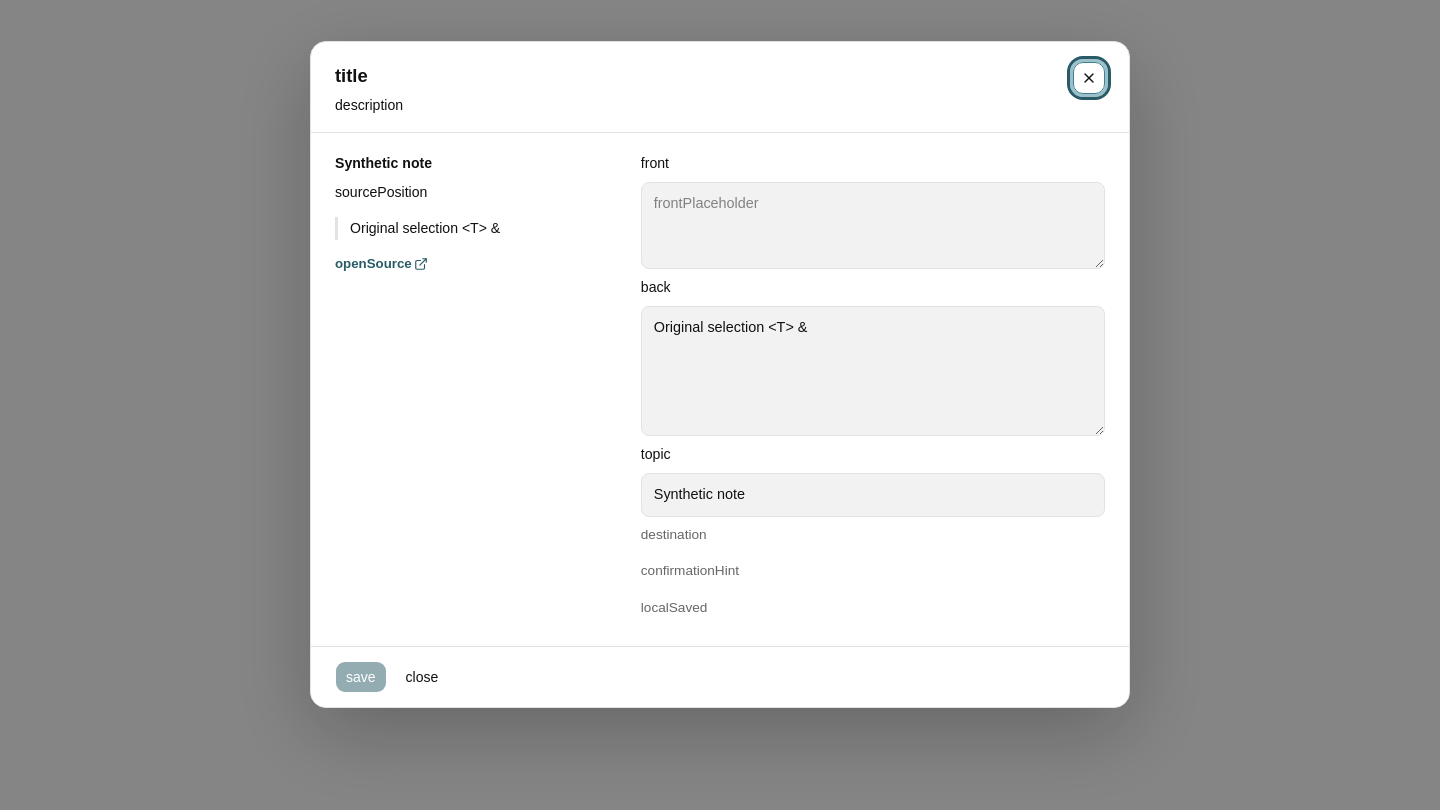
Test: does not silently retarget a changed note revision
Type "What is the selection?" into the text box labelled "front" at (873, 226), box [641,182,1105,269]
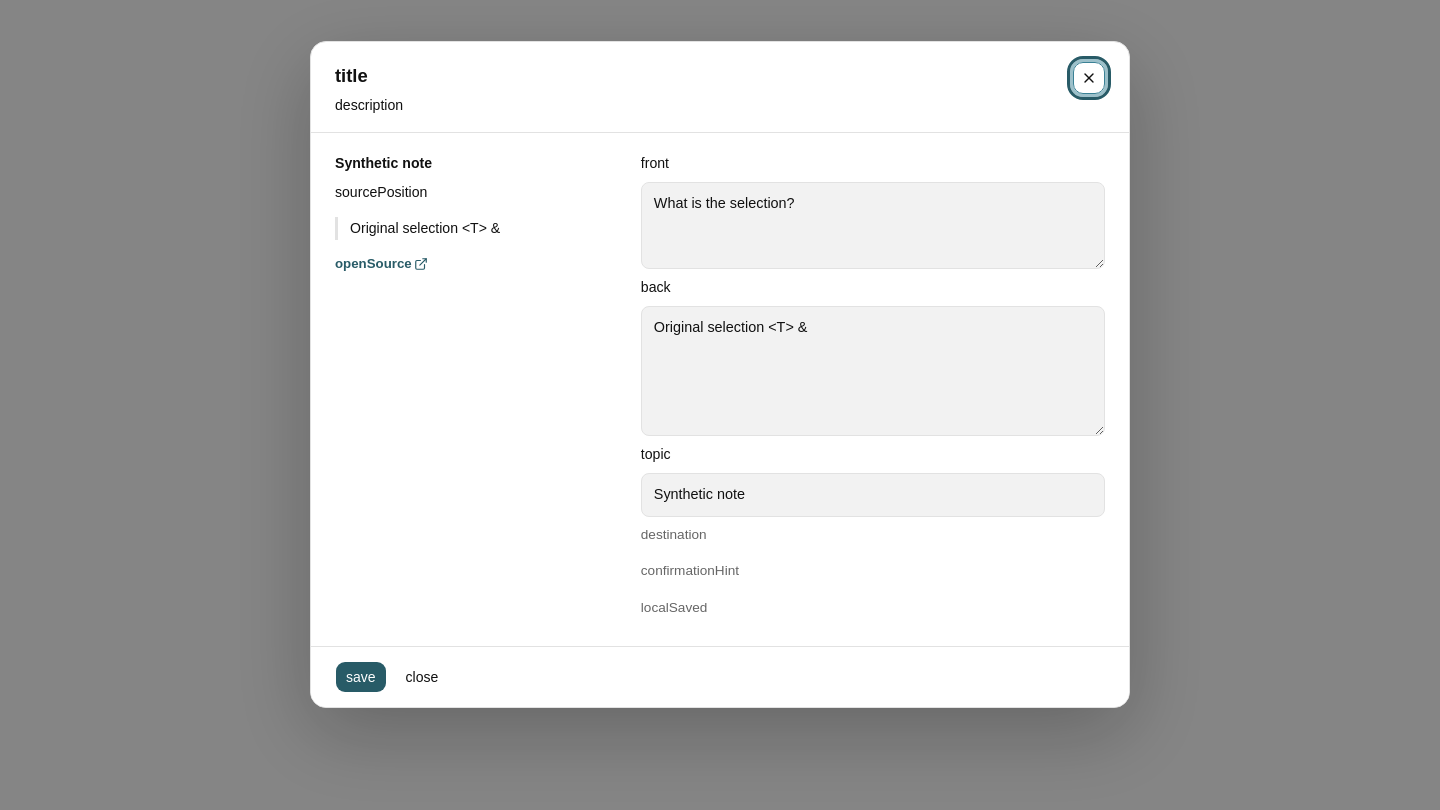
Now the button "save" is enabled
Click the button "save" at (361, 677), box [335,661,387,693]
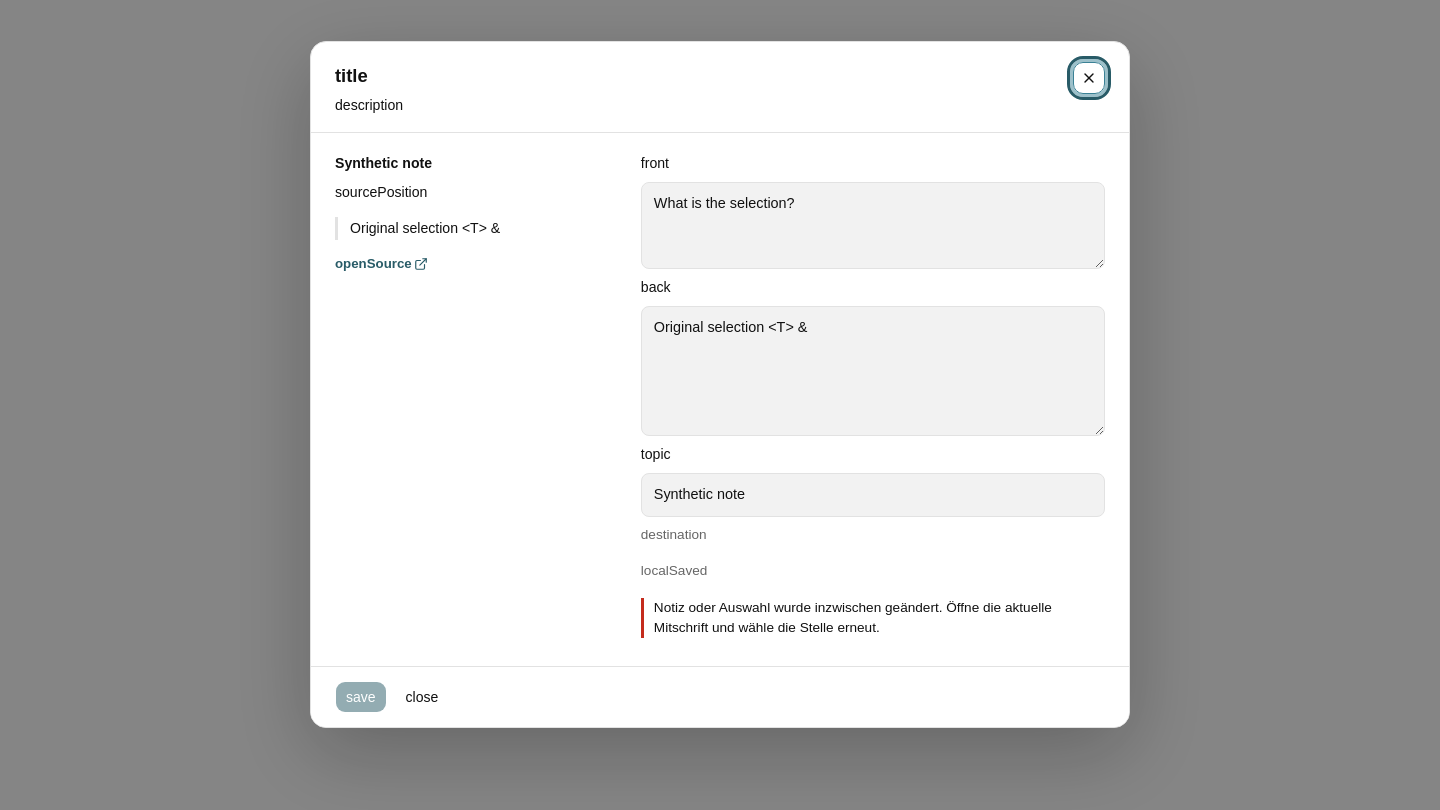
Expected: the text box labelled "front" is disabled, [641,182,1105,269]
Now the text "Notiz oder Auswahl wurde inzwischen geändert. Öffne die aktuelle Mitschrift und wähle die Stelle erneut." is shown, box [654,600,1052,635]
Now the button "save" is disabled, box [335,681,387,713]
